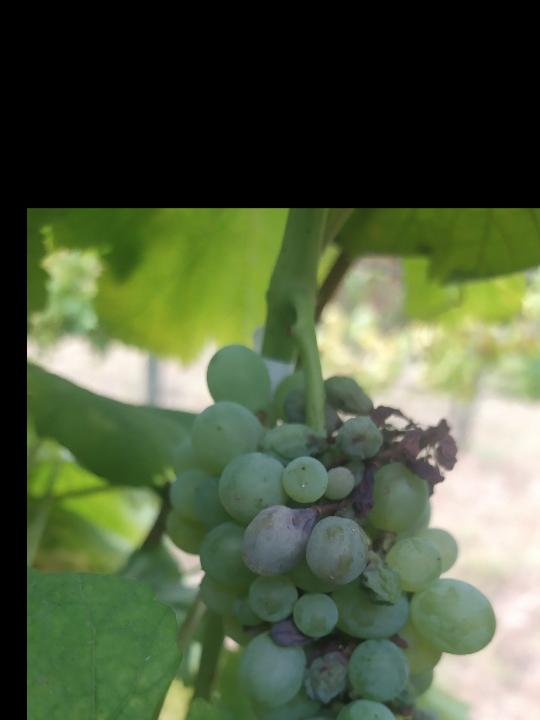grape: (163, 342, 501, 720)
